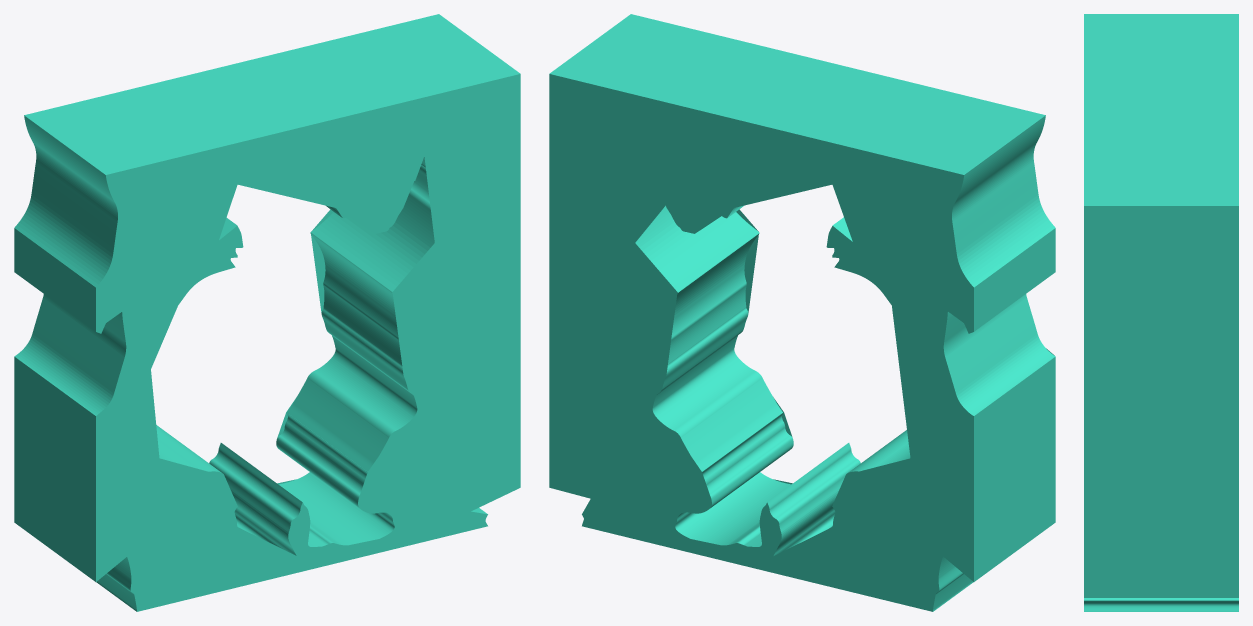
Rendered from Christmas.fbx.
The picture shows the model from 3 angles, left to right: view 1: azimuth 30°, elevation 25°; view 2: azimuth 150°, elevation 25°; view 3: azimuth 270°, elevation 25°; orthographic projection. The views are drawn at different scales.
Parts seen in each view (by area): view 1: Cube.001, Cube.003, Cube.006, Cube.018, Cube.007, Cube.002, Cube.004, Cube.008; view 2: Cube.001, Cube.003, Cube.006, Cube.018, Cube.007, Cube.002, Cube.004, Cube.008; view 3: Cube.003, Cube.006, Cube.007, Cube.002, Cube.001.
Boxes of the visible parts, bbox=[...] form: Cube.001: bbox=[14, 83, 237, 325]; Cube.003: bbox=[297, 14, 520, 242]; Cube.006: bbox=[310, 209, 520, 395]; Cube.018: bbox=[14, 414, 237, 611]; Cube.007: bbox=[297, 337, 520, 552]; Cube.002: bbox=[156, 48, 379, 247]; Cube.004: bbox=[14, 266, 177, 473]; Cube.008: bbox=[209, 396, 379, 587]; Cube.001: bbox=[832, 83, 1055, 325]; Cube.003: bbox=[549, 14, 772, 242]; Cube.006: bbox=[549, 209, 759, 395]; Cube.018: bbox=[832, 414, 1055, 611]; Cube.007: bbox=[549, 337, 772, 552]; Cube.002: bbox=[690, 48, 913, 247]; Cube.004: bbox=[892, 266, 1055, 473]; Cube.008: bbox=[690, 396, 860, 587]; Cube.003: bbox=[1084, 140, 1238, 346]; Cube.006: bbox=[1084, 346, 1238, 486]; Cube.007: bbox=[1084, 486, 1238, 611]; Cube.002: bbox=[1084, 75, 1238, 140]; Cube.001: bbox=[1084, 14, 1238, 74].
Size of the model in its own units: 600 by 600 by 200.
